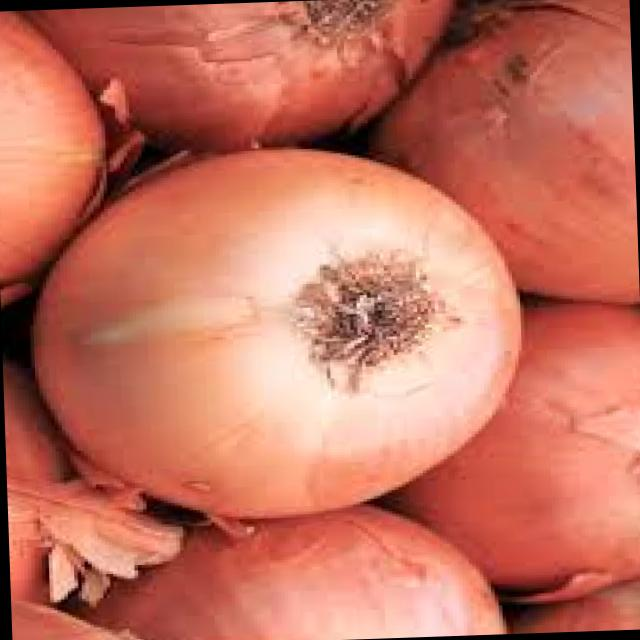Onion: (61, 115, 550, 538), (7, 0, 499, 161), (415, 289, 640, 615), (99, 471, 531, 640)
